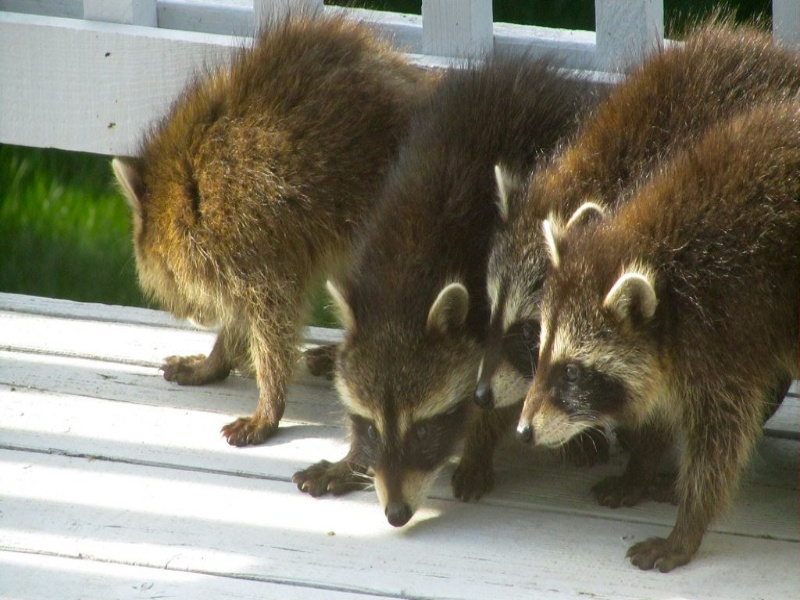raccoon: (470, 22, 786, 518), (109, 15, 441, 468), (508, 90, 800, 580), (291, 60, 578, 538)
